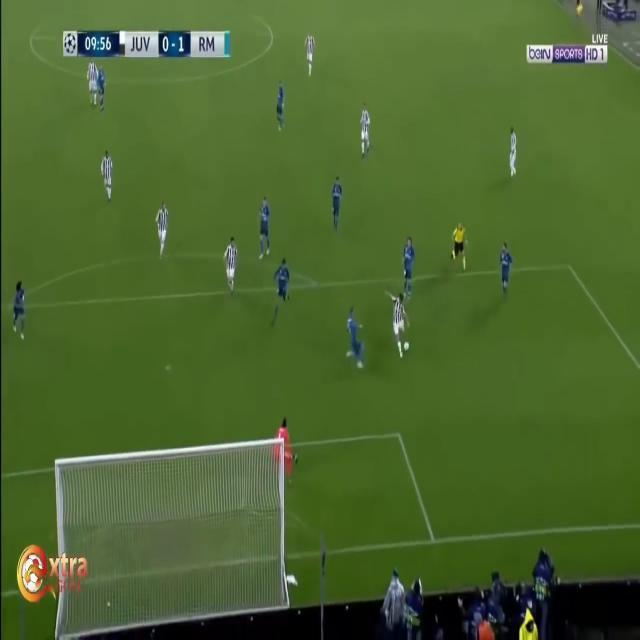ball: (403, 336, 411, 356)
goalkeeper: (267, 412, 299, 483)
player: (382, 283, 414, 360), (342, 300, 372, 374), (271, 250, 296, 325), (490, 234, 518, 298), (324, 170, 349, 236), (8, 273, 29, 349), (94, 147, 119, 210), (396, 232, 421, 293), (152, 197, 173, 266), (253, 191, 272, 260), (357, 96, 375, 161), (223, 237, 241, 298), (298, 27, 318, 80), (273, 78, 290, 136), (506, 114, 519, 186), (96, 63, 110, 119), (86, 55, 98, 107)
referee: (448, 216, 471, 285)
